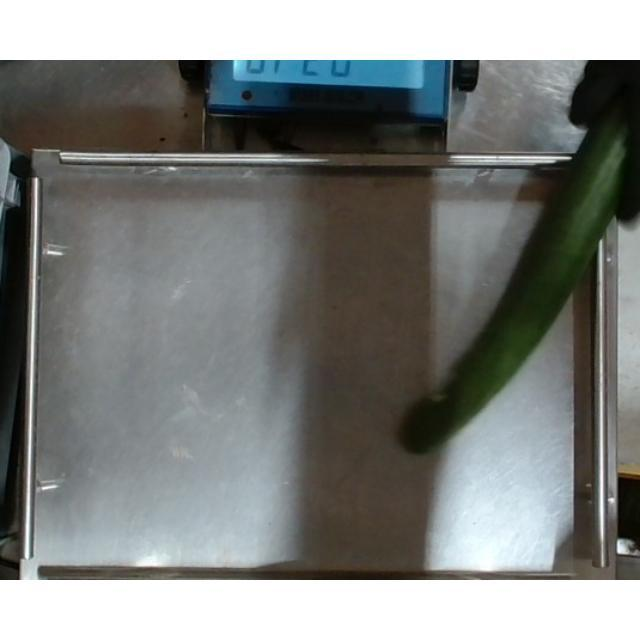cucumber: (393, 120, 623, 460)
